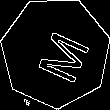M_NW: (24, 21, 87, 84)
